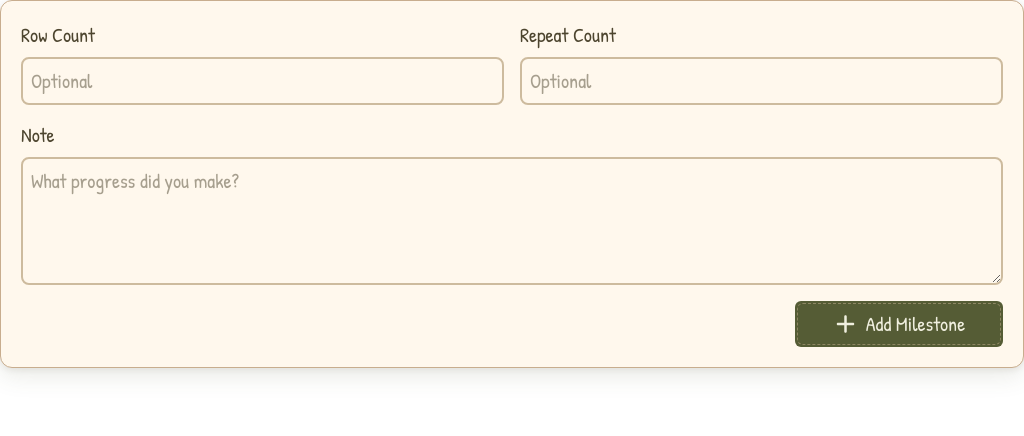
Test case: MilestoneForm › submits a note with optional progress counts and clears the form
Type " Finished the first sleeve " into the text box labelled "Note". click: (512,221)
box: top-left (21, 157), bottom-right (1003, 285)
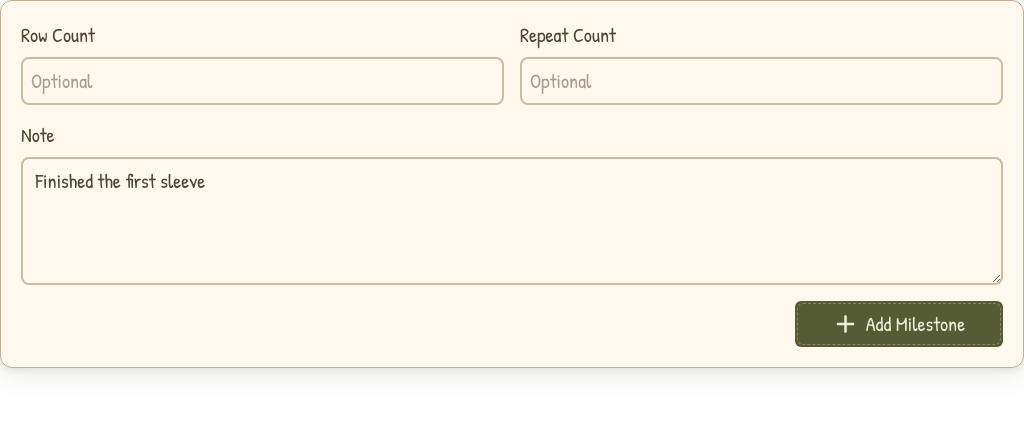
Type "42" into the number field labelled "Row Count". click: (262,81)
box: top-left (31, 67), bottom-right (494, 95)
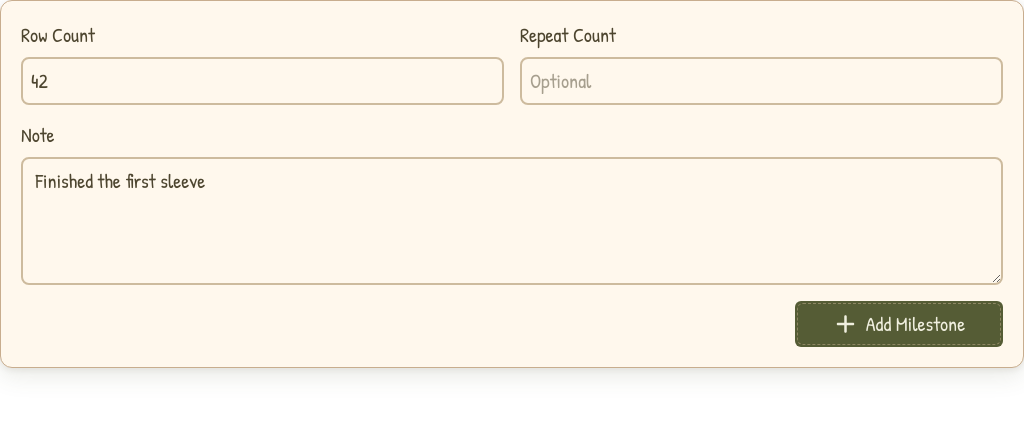
Type "3" into the number field labelled "Repeat Count". click: (762,81)
box: top-left (530, 67), bottom-right (993, 95)
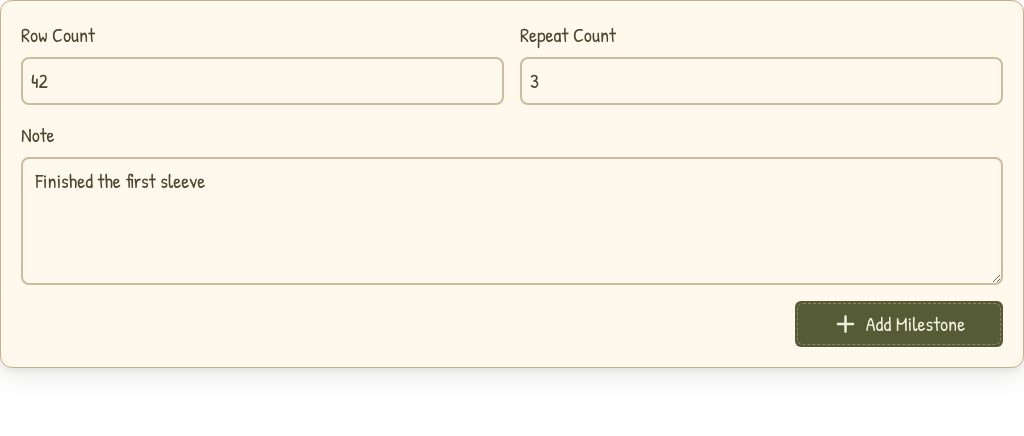
Click the button "Add Milestone". click: (899,324)
box: top-left (795, 301), bottom-right (1003, 347)
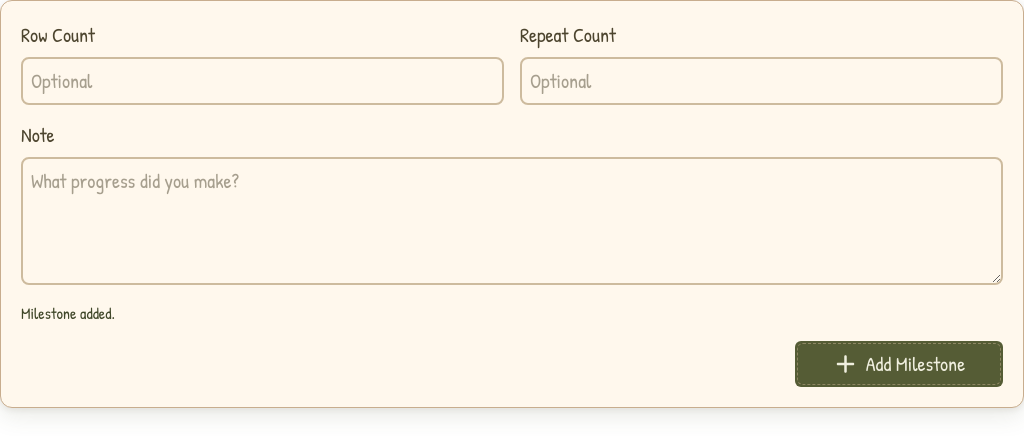
Now the message reads "Milestone added.", box top-left (21, 302), bottom-right (115, 324)
Now the text box labelled "Note" is empty, box top-left (21, 157), bottom-right (1003, 285)
